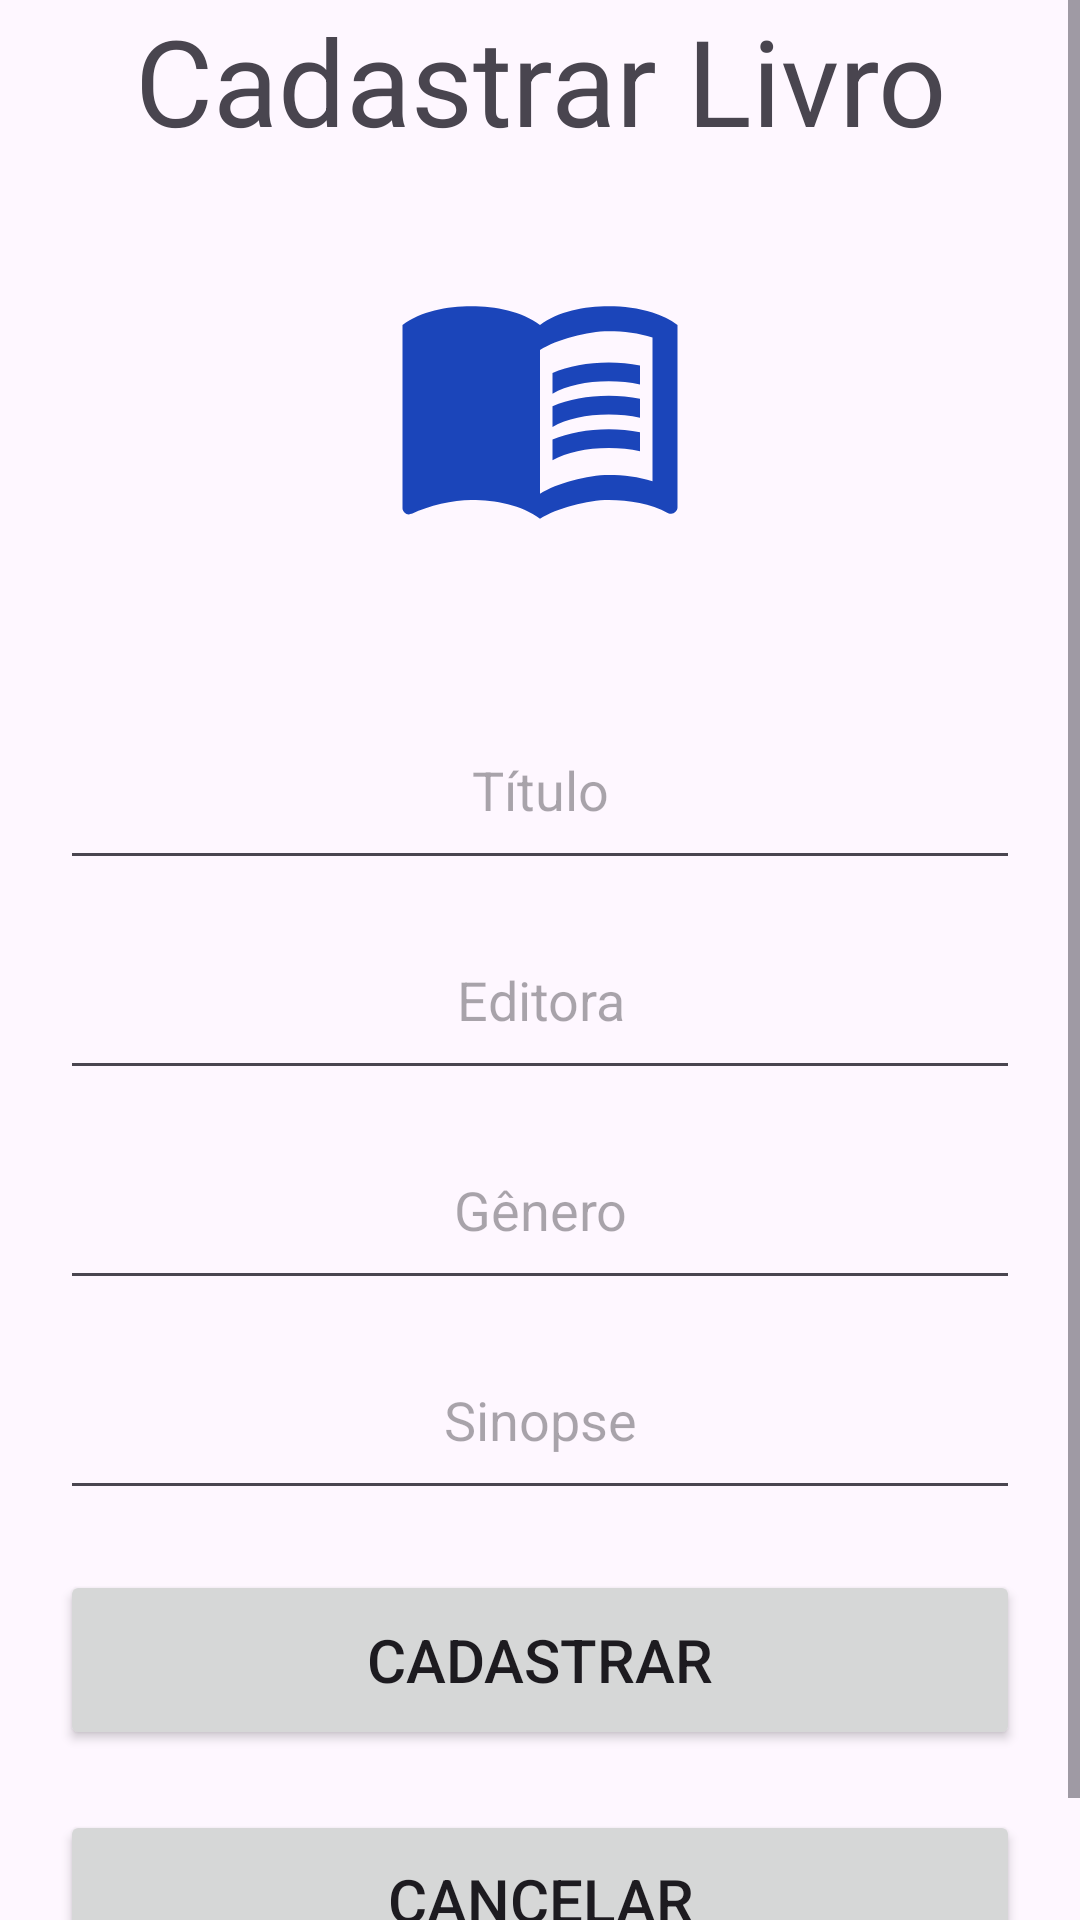

Icons on this 1080px×1920px Android screen, each with its box as (x1, y1, x2, y2):
book: (402, 306, 678, 519)
